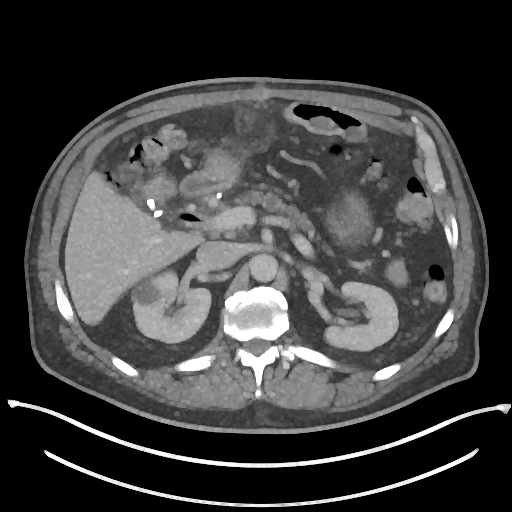Lesion: (127, 275, 162, 311)
